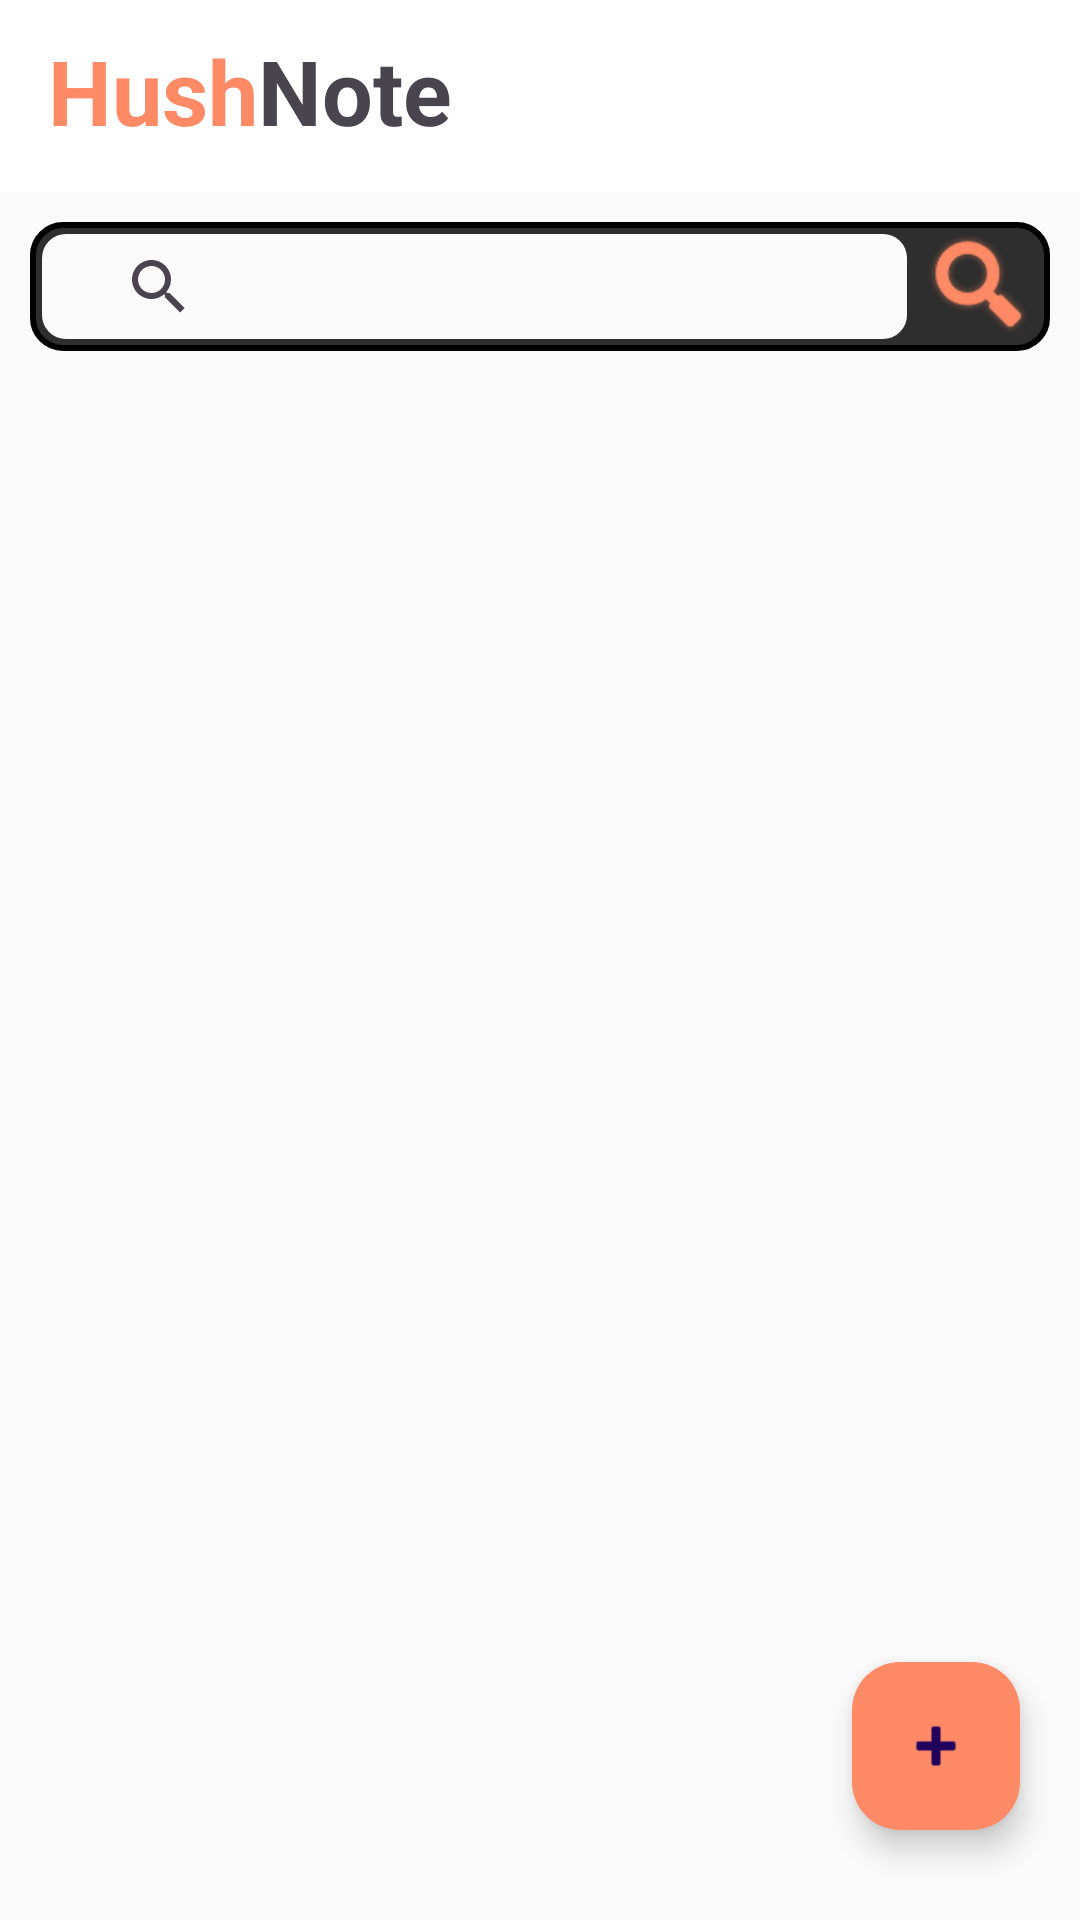

Where to tap for icons on this 1080 × 1920 app screen, as (x=x, y=y):
Add Article Button: (x=936, y=1746)
